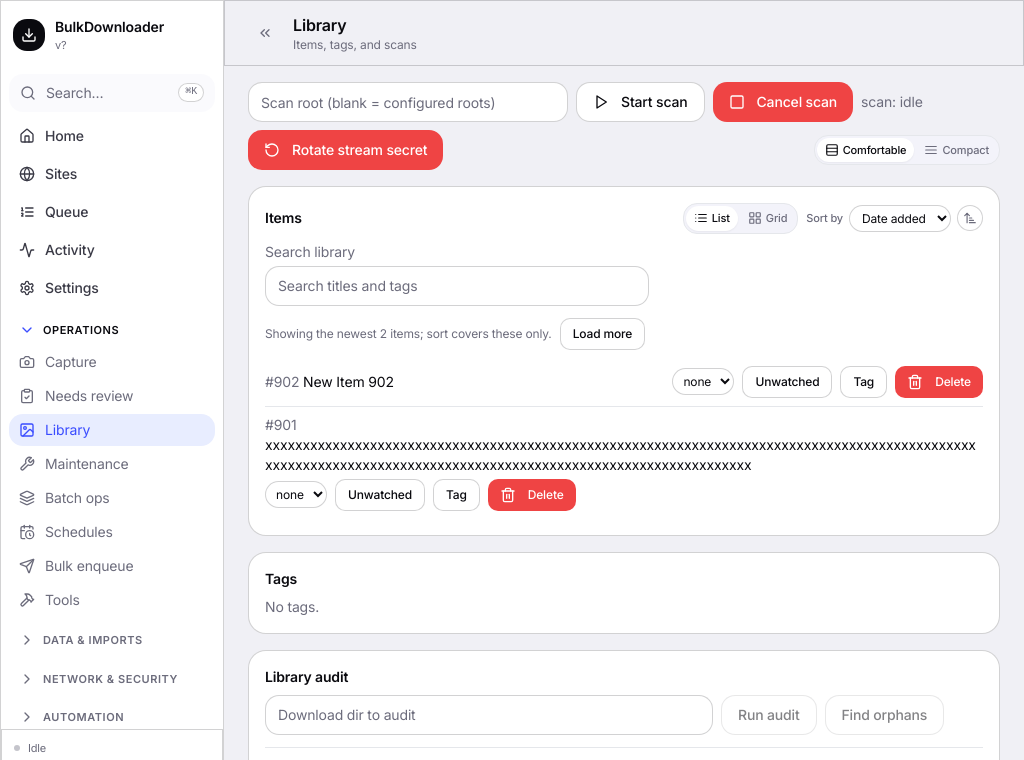
Test: sltm-fix Library: items beyond the first page › F1 search finds an older item by its exact tag
The width and height of the screenshot is (1024, 760).
Check: the button "New Item 902" is shown, box [303, 372, 394, 392]
Type "needle-tag" into the search field labelled "Search library".
click(457, 286); type("needle-tag")  # box [265, 266, 649, 306]
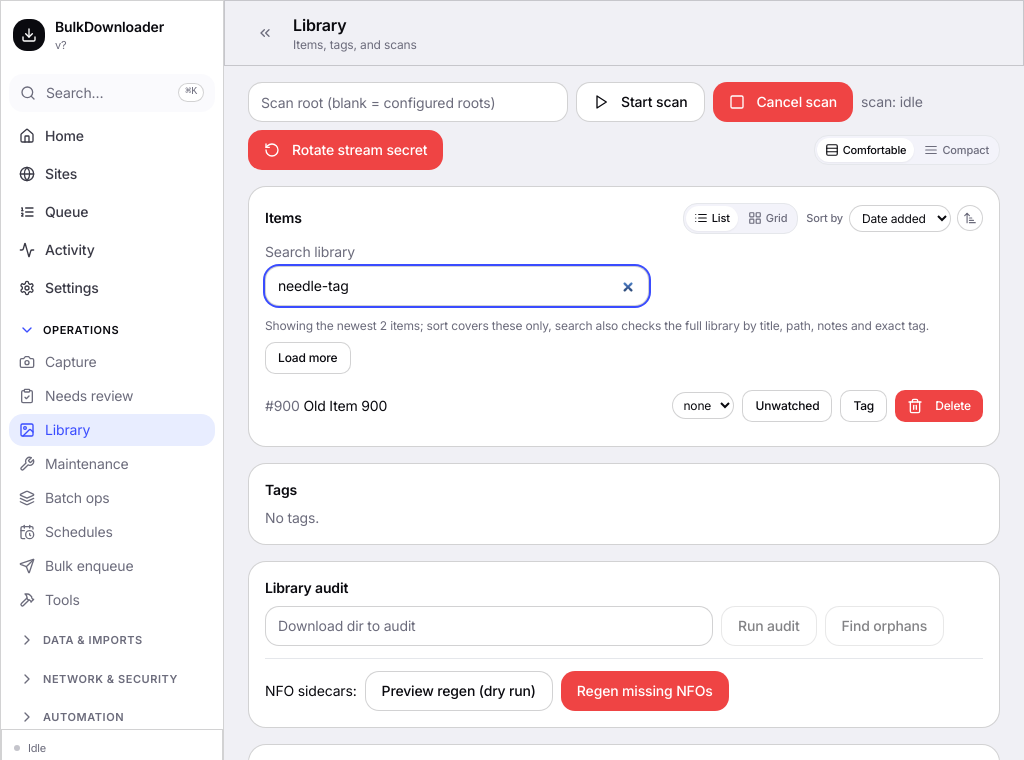
Check: the button "Old Item 900" is shown, box [303, 396, 387, 416]
